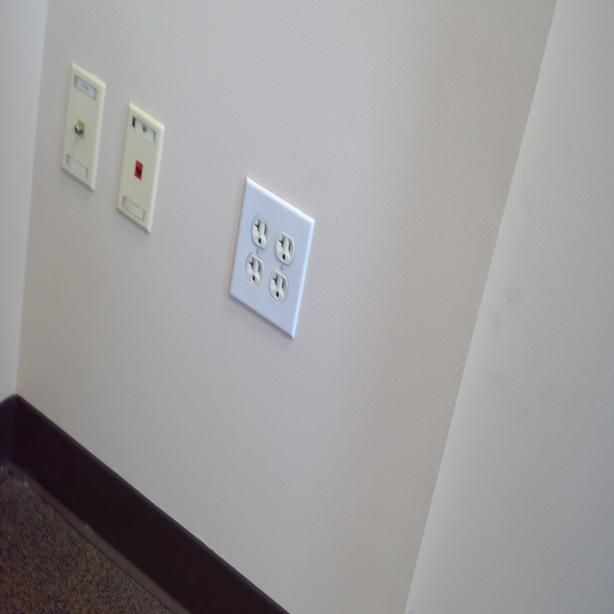typeb: (270, 270, 288, 301), (245, 254, 263, 284), (252, 217, 268, 247), (278, 234, 294, 264)
